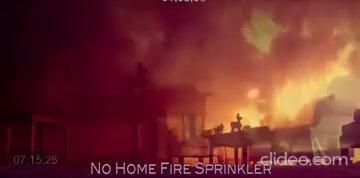fire: (135, 1, 360, 153)
